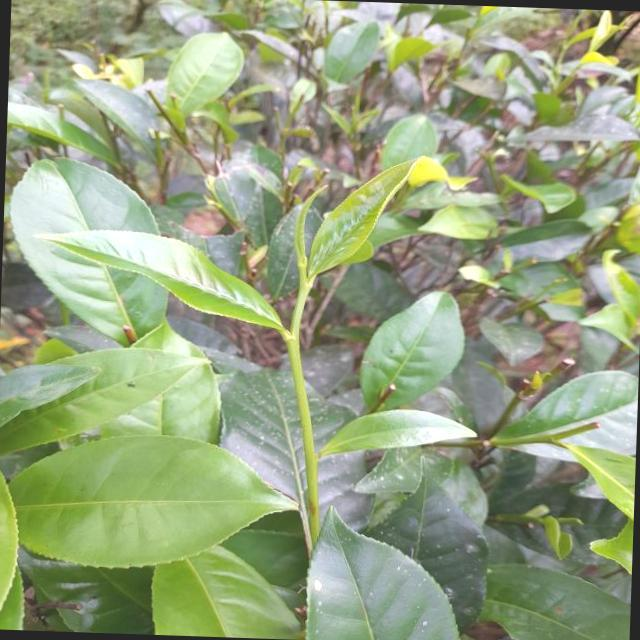Stem: (288, 336, 299, 353)
